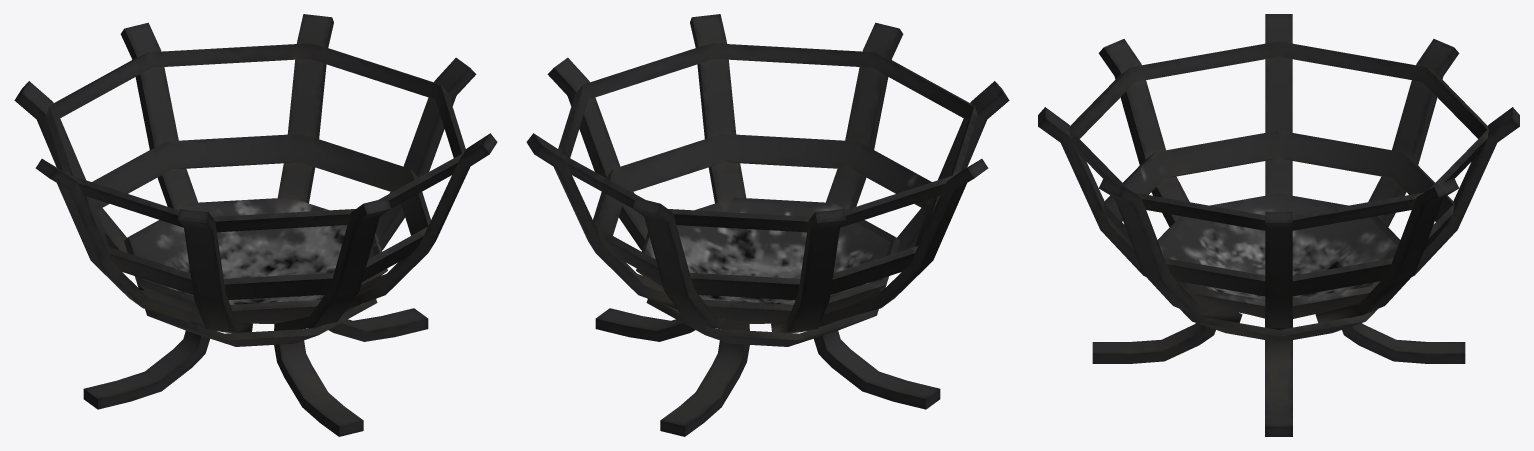
File: Brazier.fbx
3 renders of one model, left to right at view 1: azimuth 30°, elevation 25°; view 2: azimuth 150°, elevation 25°; view 3: azimuth 270°, elevation 25°, orthographic. The views are drawn at different scales.
Parts seen in each view (by area): view 1: brazier; view 2: brazier; view 3: brazier.
Part boxes in pixels (left/top/right/bottom): brazier: left=14, top=14, right=497, bottom=436; brazier: left=526, top=14, right=1009, bottom=436; brazier: left=1038, top=14, right=1519, bottom=436.
Size of the model in its own units: 106 by 59.4 by 106.
